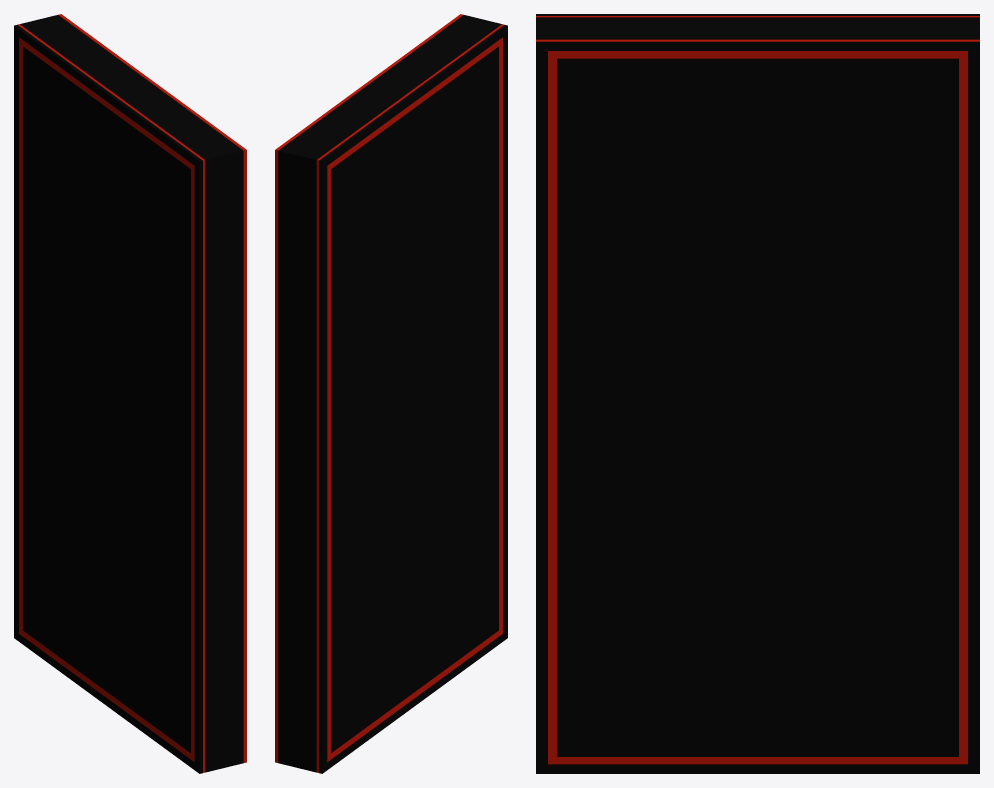
3 views of the same model, side by side, from view 1: azimuth 30°, elevation 25°; view 2: azimuth 150°, elevation 25°; view 3: azimuth 270°, elevation 25° (orthographic). The views are drawn at different scales.
Visible parts, largest first — view 1: Box004; view 2: Box004; view 3: Box004.
Boxes of the visible parts, x1,y1,x2,y2 form: Box004: [14, 14, 246, 773]; Box004: [275, 14, 507, 773]; Box004: [536, 14, 979, 773].
Size of the model in its own units: 17.36 by 215 by 118.
